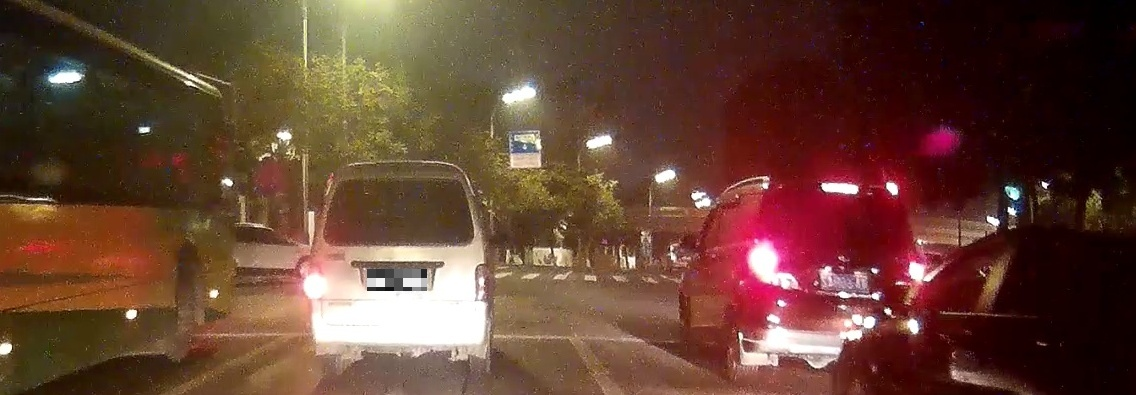L_light: (747, 251, 798, 288), (307, 262, 323, 300)
R_light: (893, 249, 929, 287), (475, 263, 489, 300)
T_light: (819, 182, 859, 195), (383, 178, 411, 185)
night-brake: (745, 179, 929, 388)
night-left: (306, 160, 490, 373)
plate_1: (367, 269, 427, 291)
